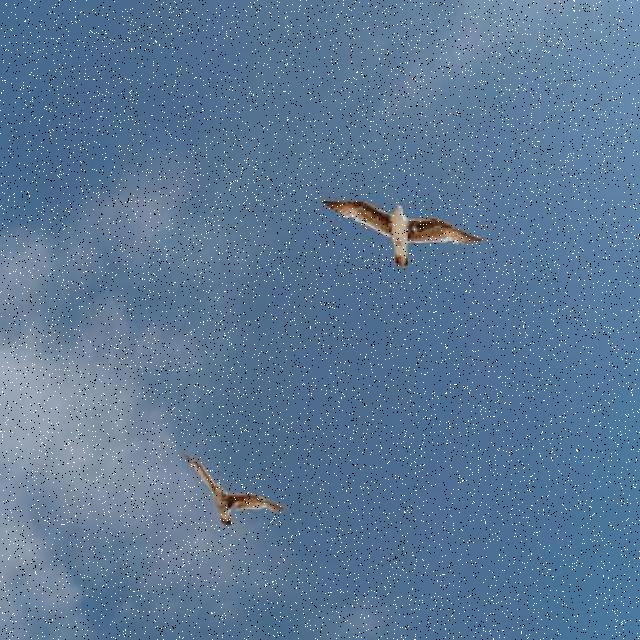bird: (319, 196, 484, 270), (182, 453, 287, 530)
